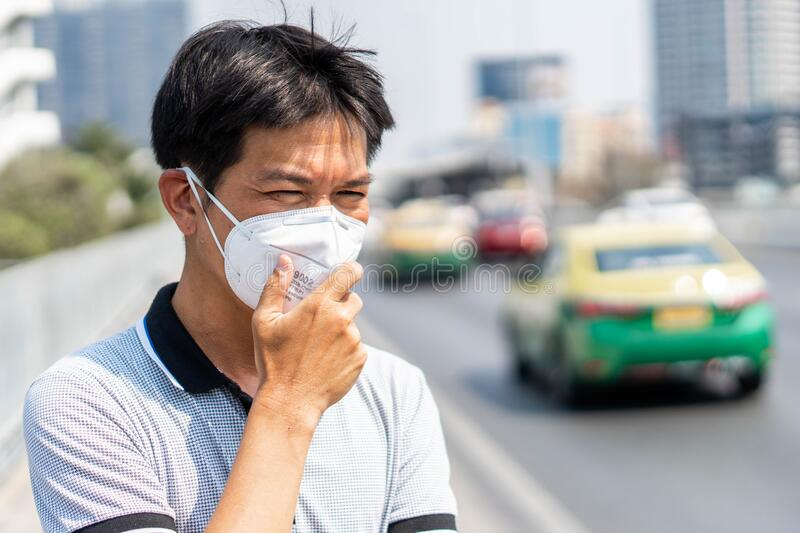n95: (215, 203, 374, 318)
